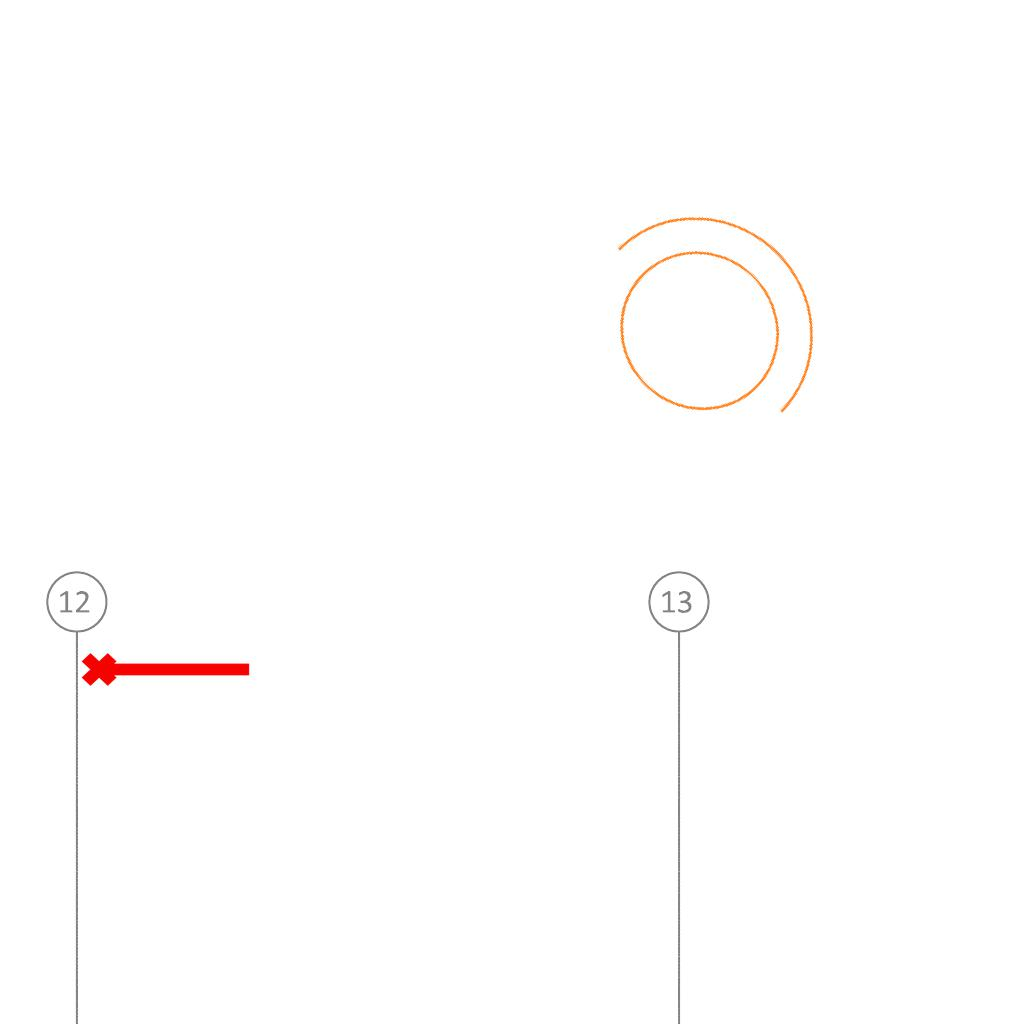ASR_Ansaugoeffnung: (79, 644, 255, 690)
Scheinwerfer_fuer_Alarmbeleuchtung: (529, 146, 875, 493)
